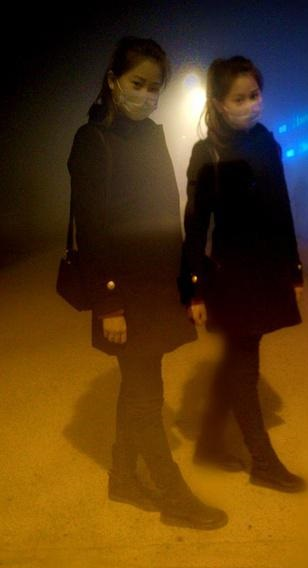face_mask: (119, 56, 161, 125), (227, 71, 259, 134)
